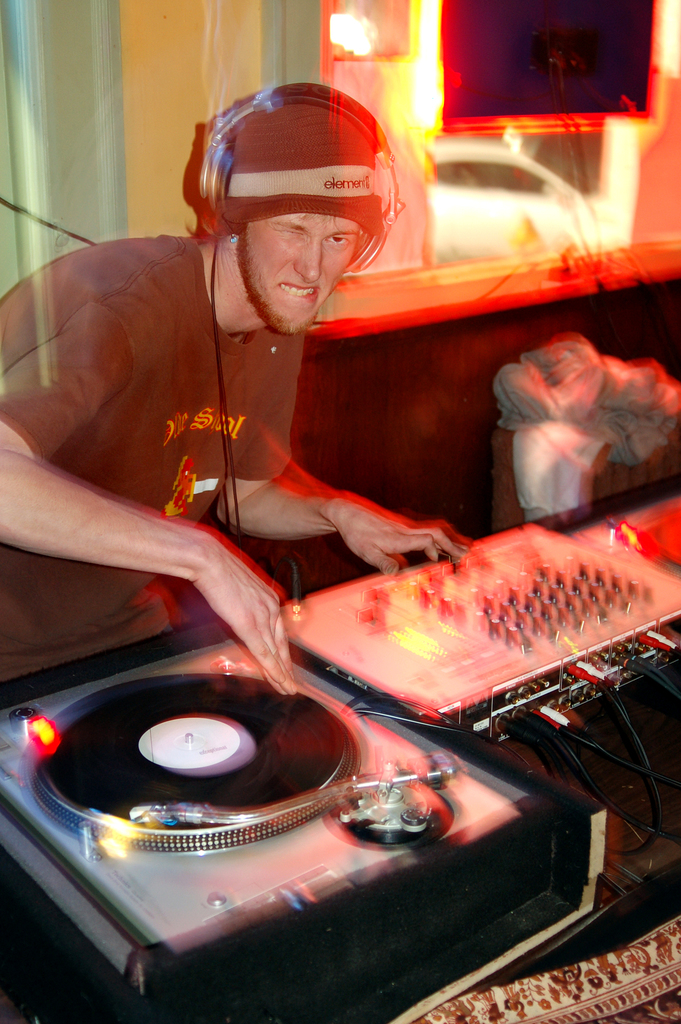Human_hand: (195, 533, 296, 695), (318, 496, 466, 578)
